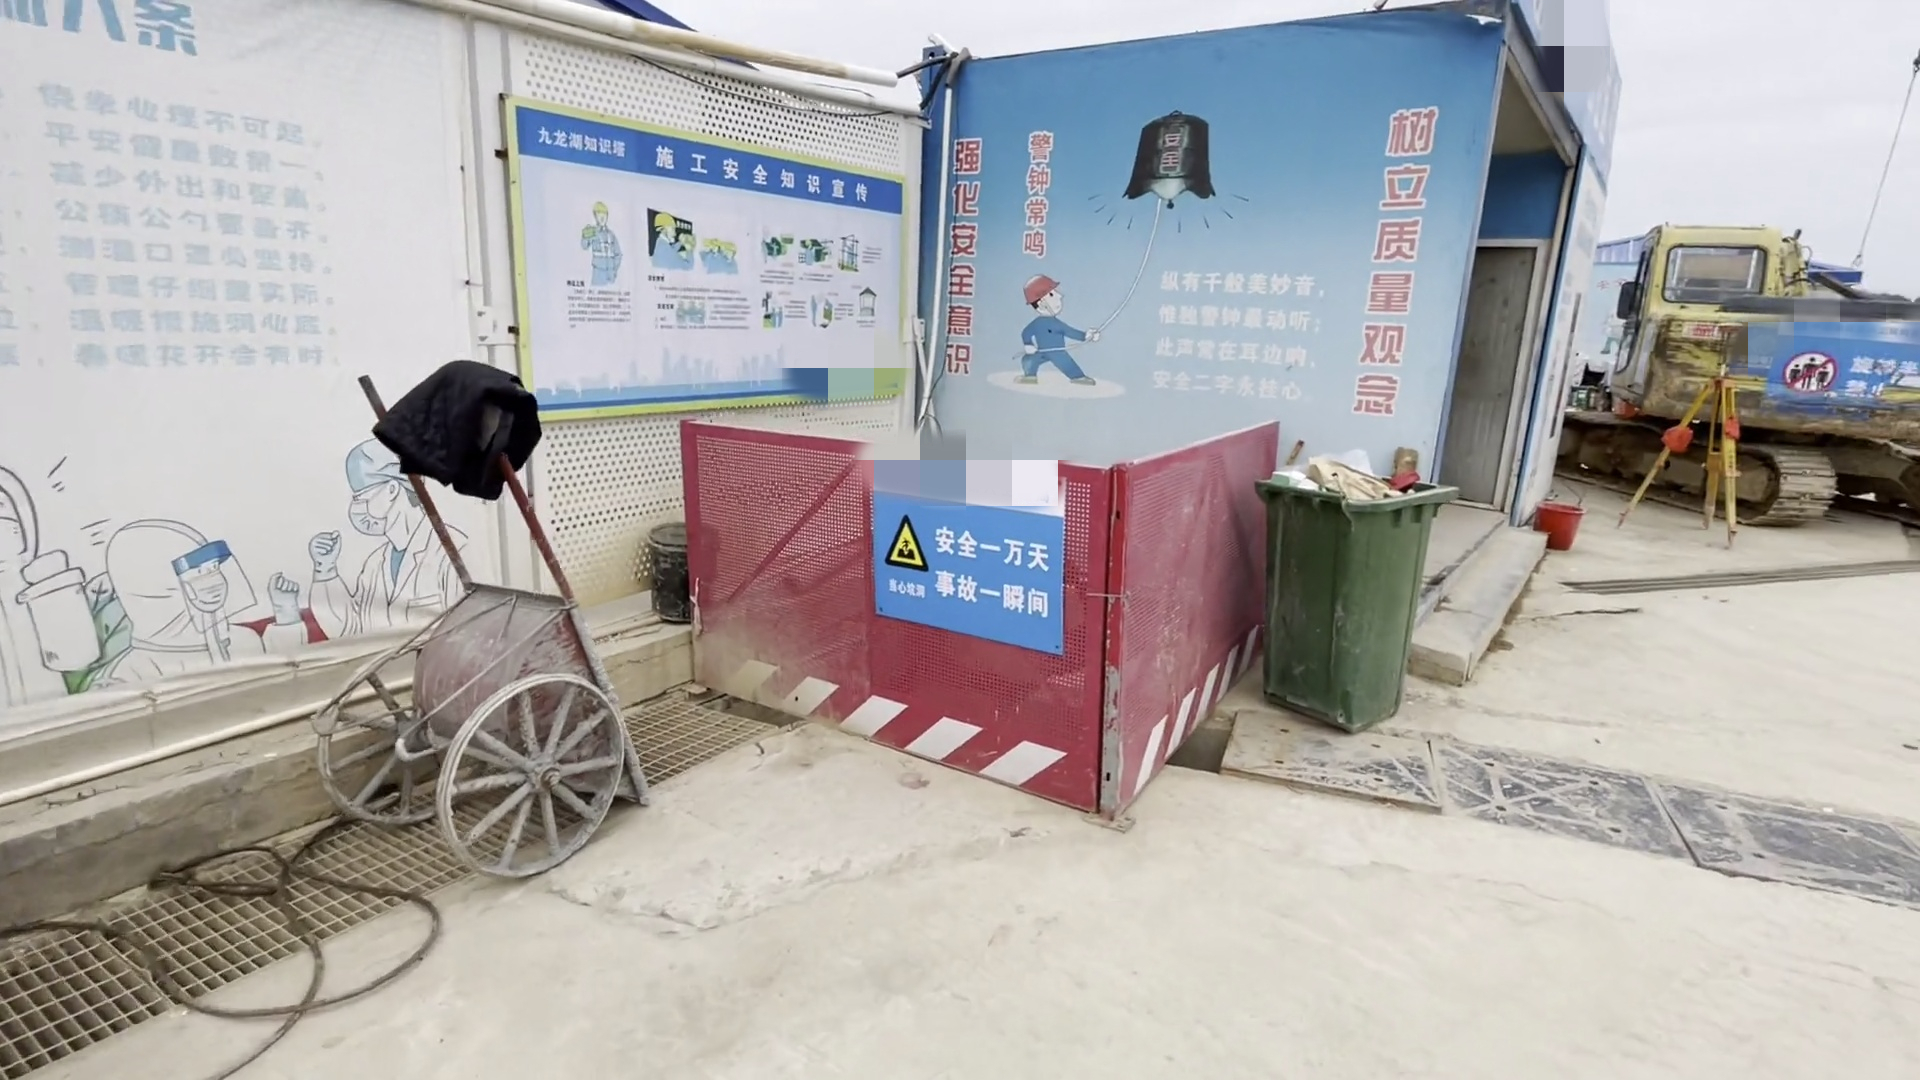handcart: (306, 363, 684, 872)
slogan: (858, 475, 1069, 666)
